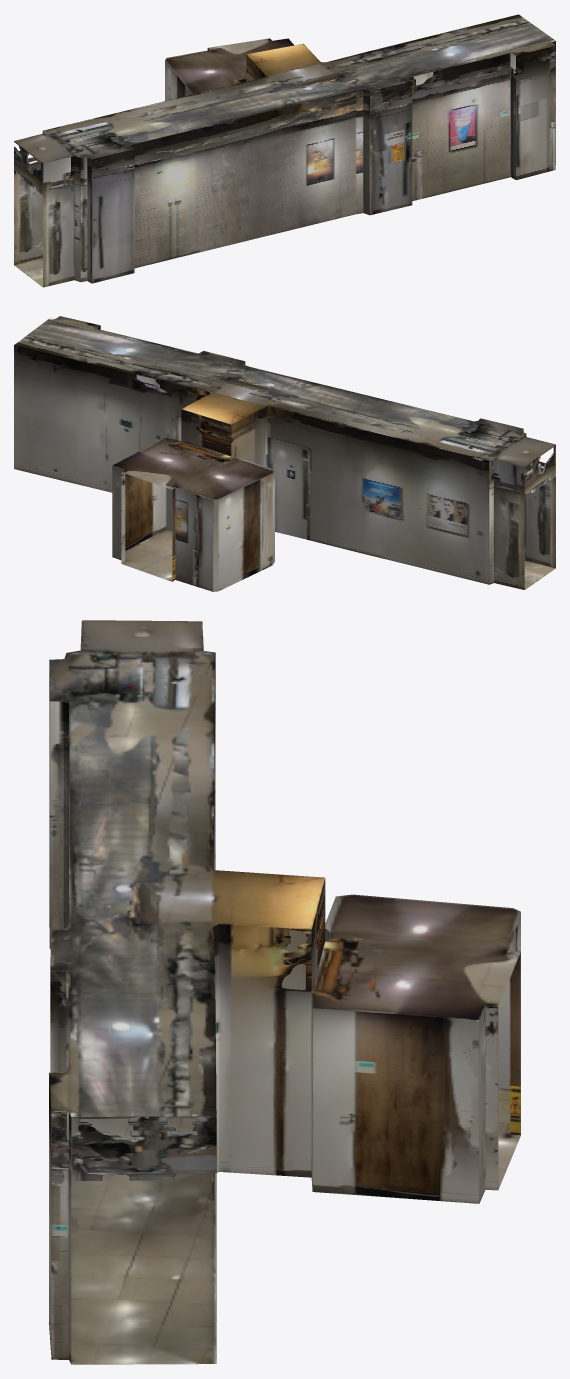
Rendered from MLG_corr_4-IM.fbx.
3 renders of one model, top to bottom at view 1: azimuth 30°, elevation 25°; view 2: azimuth 150°, elevation 25°; view 3: azimuth 270°, elevation 25°, orthographic. The views are drawn at different scales.
Visible parts, largest first — view 1: MLG-corr-4LP-2; view 2: MLG-corr-4LP-2; view 3: MLG-corr-4LP-2.
Part boxes in pixels (x1,y1,x2,y2): MLG-corr-4LP-2: (14, 14, 555, 287); MLG-corr-4LP-2: (14, 316, 555, 591); MLG-corr-4LP-2: (49, 620, 520, 1364).
Bounding box in the file's own units: 1324 × 308 × 532.
Materials: 1 (1 with a texture image).
